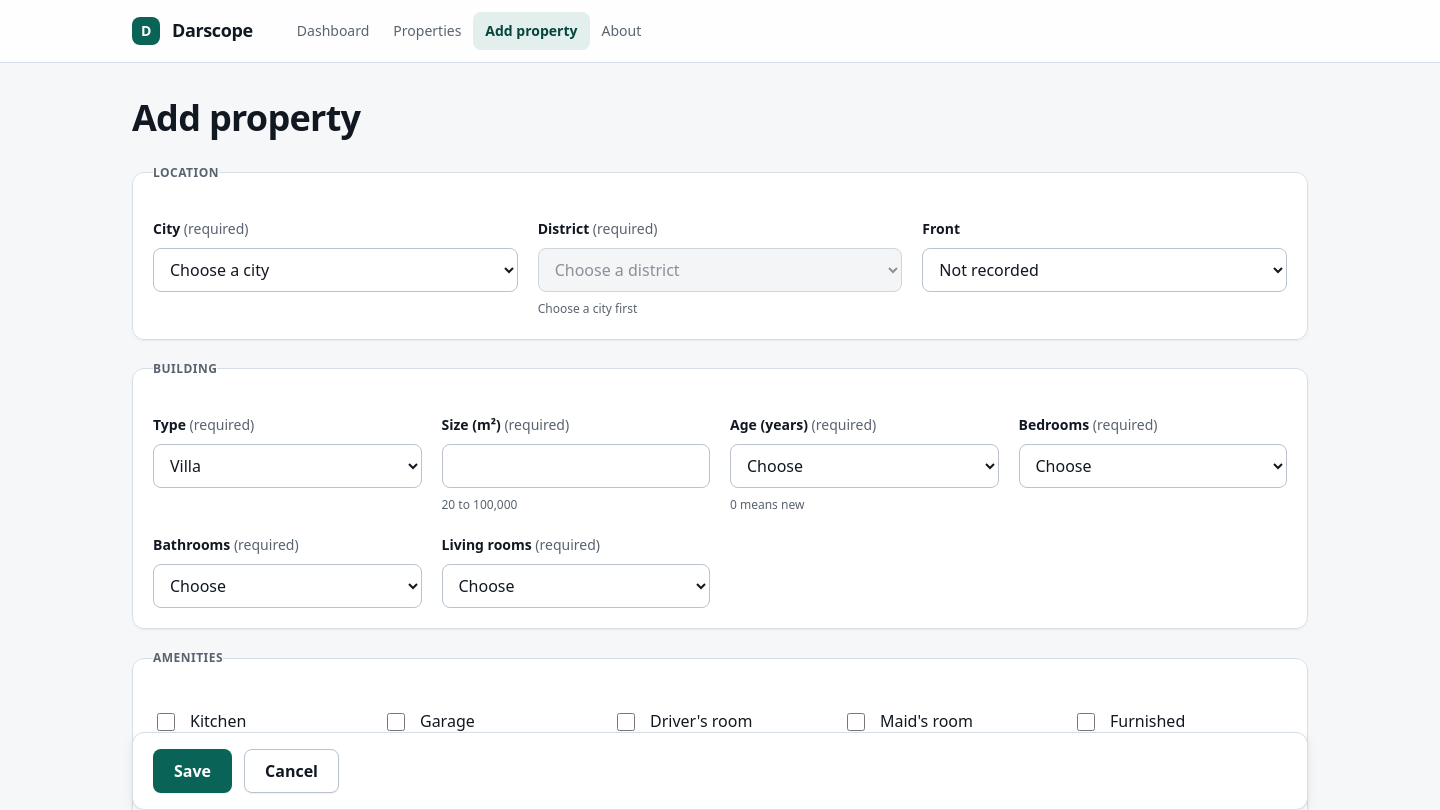
Test: PropertyFormPage: number fields (FR-ADD-12) › keeps a decimal point, so the check reports it instead of changing the number
Type "400.5" into the field labelled "Size (m²) (required)".
click(576, 466); type("400.5")  # box [442,444,710,488]
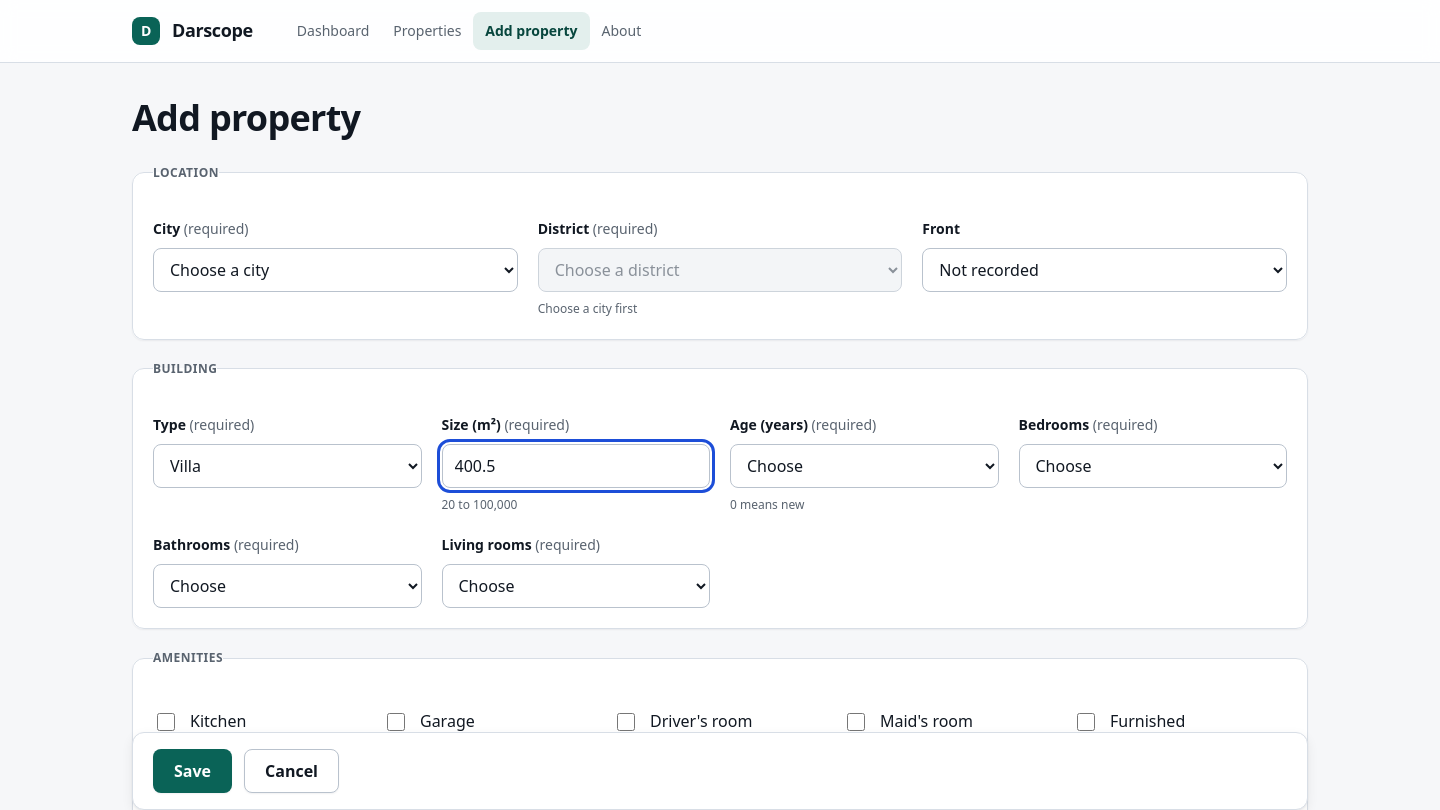
Click the button "Save".
click(192, 771)  # box [153,749,232,793]
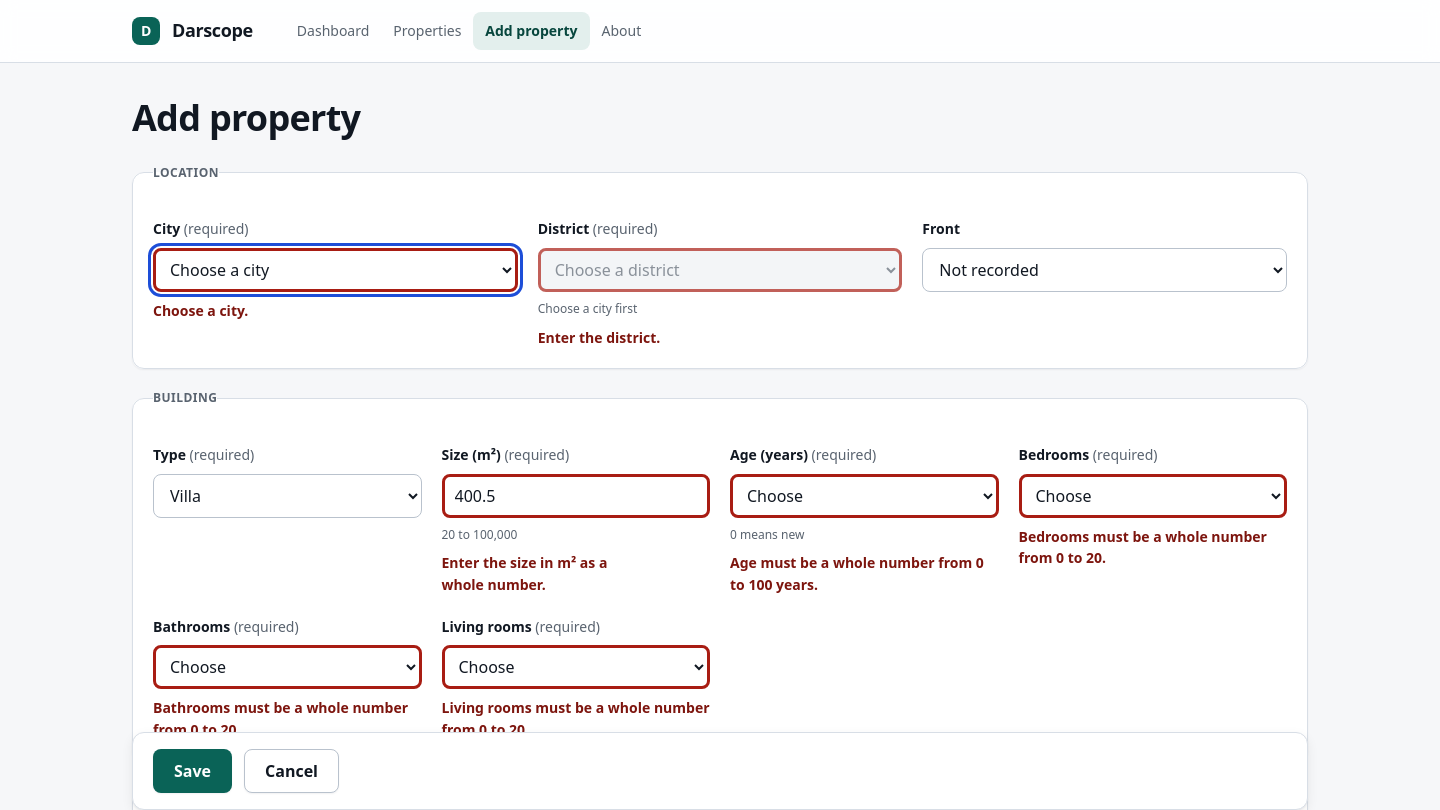
Result: the text "Enter the size in m² as a whole number." is shown at [442,553,607,594]
